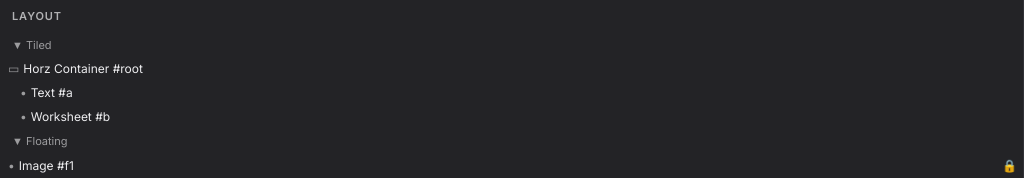
Test: LayoutTreePanel › double-click enables rename, Enter commits new displayName
Double-click the button "• Text #a".
double_click(46, 92)  # box left=20, top=85, right=73, bottom=100
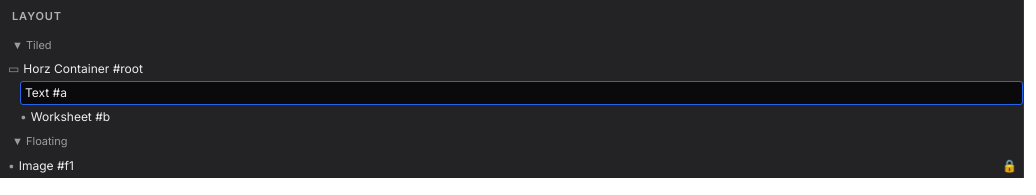
Replace the text in the field with "My Title" at [522, 93], box left=20, top=81, right=1023, bottom=105
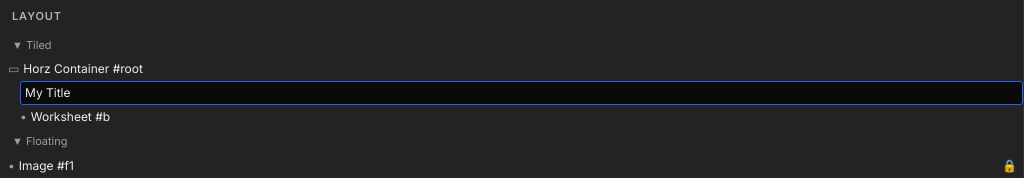
Press Enter in the field, box left=20, top=81, right=1023, bottom=105
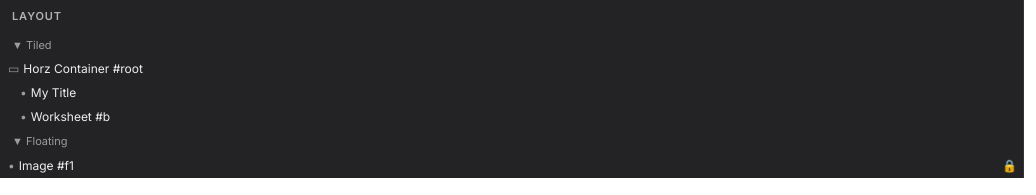
Expected: the text "My Title" is shown, left=31, top=85, right=76, bottom=100
